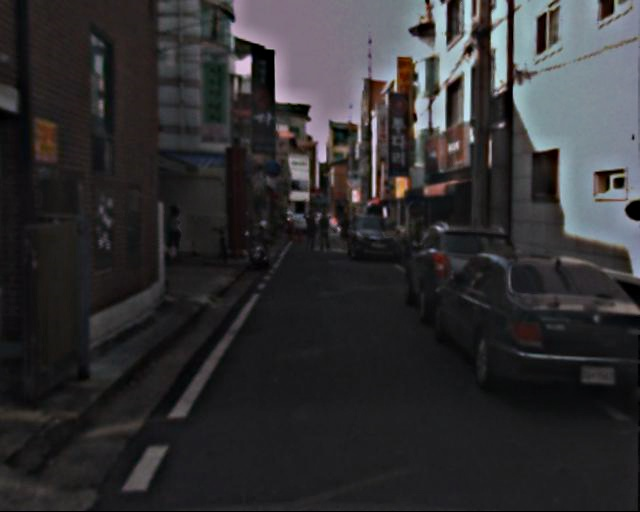person: (161, 200, 187, 264), (301, 208, 321, 256), (315, 209, 333, 254), (337, 214, 354, 255)
